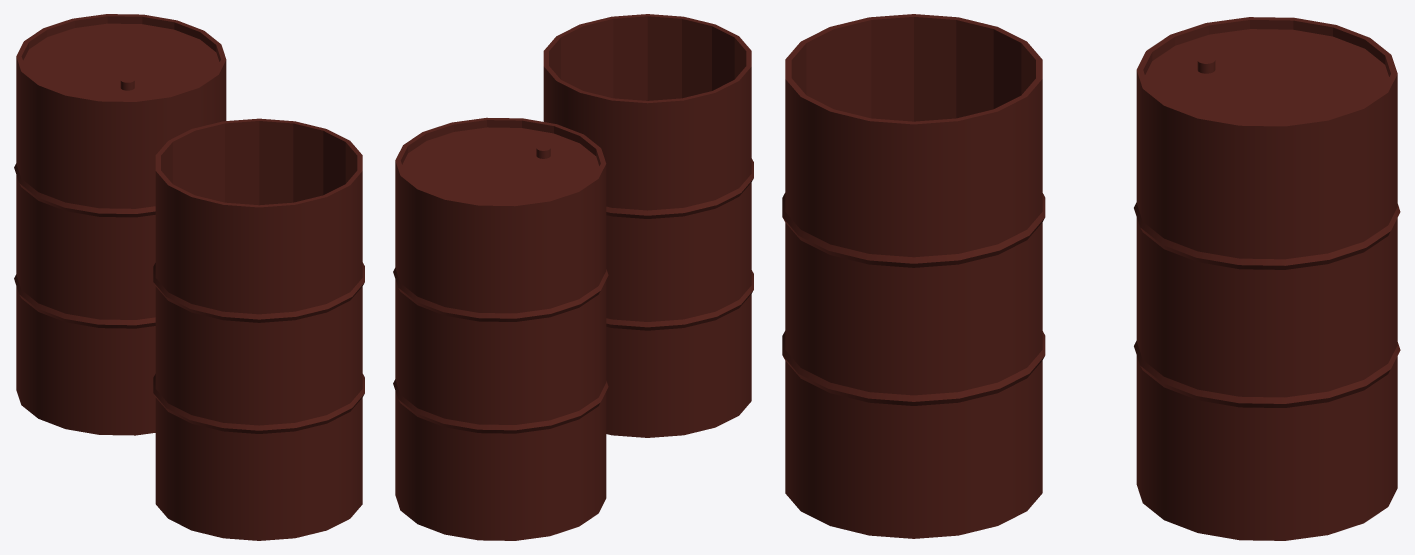
The model's file is roboramp_barrels.fbx.
The picture shows the model from 3 angles, left to right: view 1: azimuth 30°, elevation 25°; view 2: azimuth 150°, elevation 25°; view 3: azimuth 270°, elevation 25°; orthographic projection. The views are drawn at different scales.
Visible parts, largest first — view 1: Cylinder059, Cylinder060; view 2: Cylinder060, Cylinder059; view 3: Cylinder060, Cylinder059.
Part boxes in pixels (<box>): Cylinder059: <box>153,118,364,540</box>; Cylinder060: <box>14,14,226,435</box>; Cylinder060: <box>393,117,608,540</box>; Cylinder059: <box>543,14,753,437</box>; Cylinder060: <box>1134,17,1400,540</box>; Cylinder059: <box>782,14,1045,538</box>.
Size of the model in its own units: 32.14 by 54.15 by 73.08.
